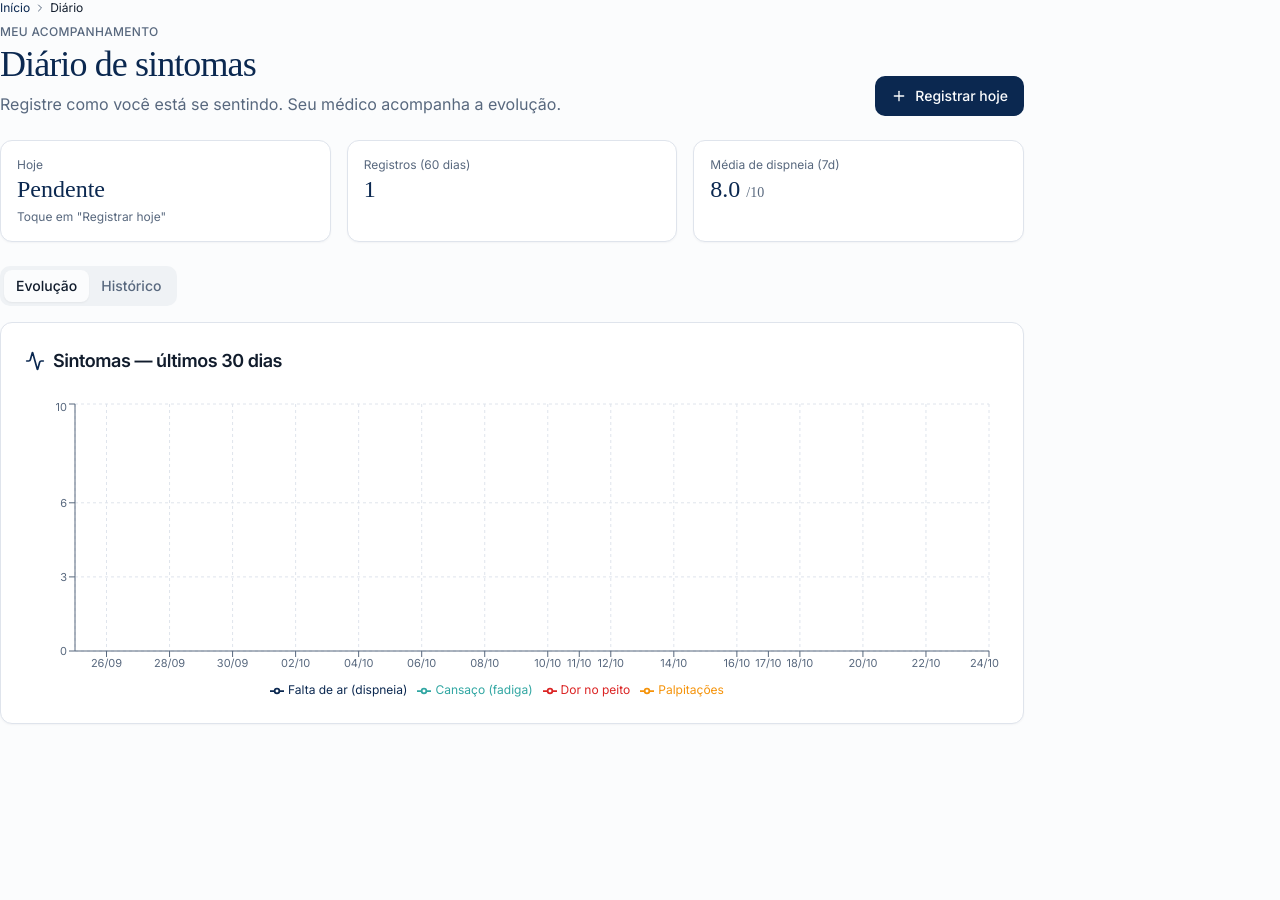
PacienteDiario › o upsert limpa o deleted_at, para não reviver um registro invisível
The image size is (1280, 900).
Later steps or results of the test are not shown.
Expected: the text "Registros (60 dias)" is shown, left=364, top=157, right=470, bottom=172
Step 1. Click the button "Registrar hoje" → (950, 96), box left=875, top=76, right=1024, bottom=116
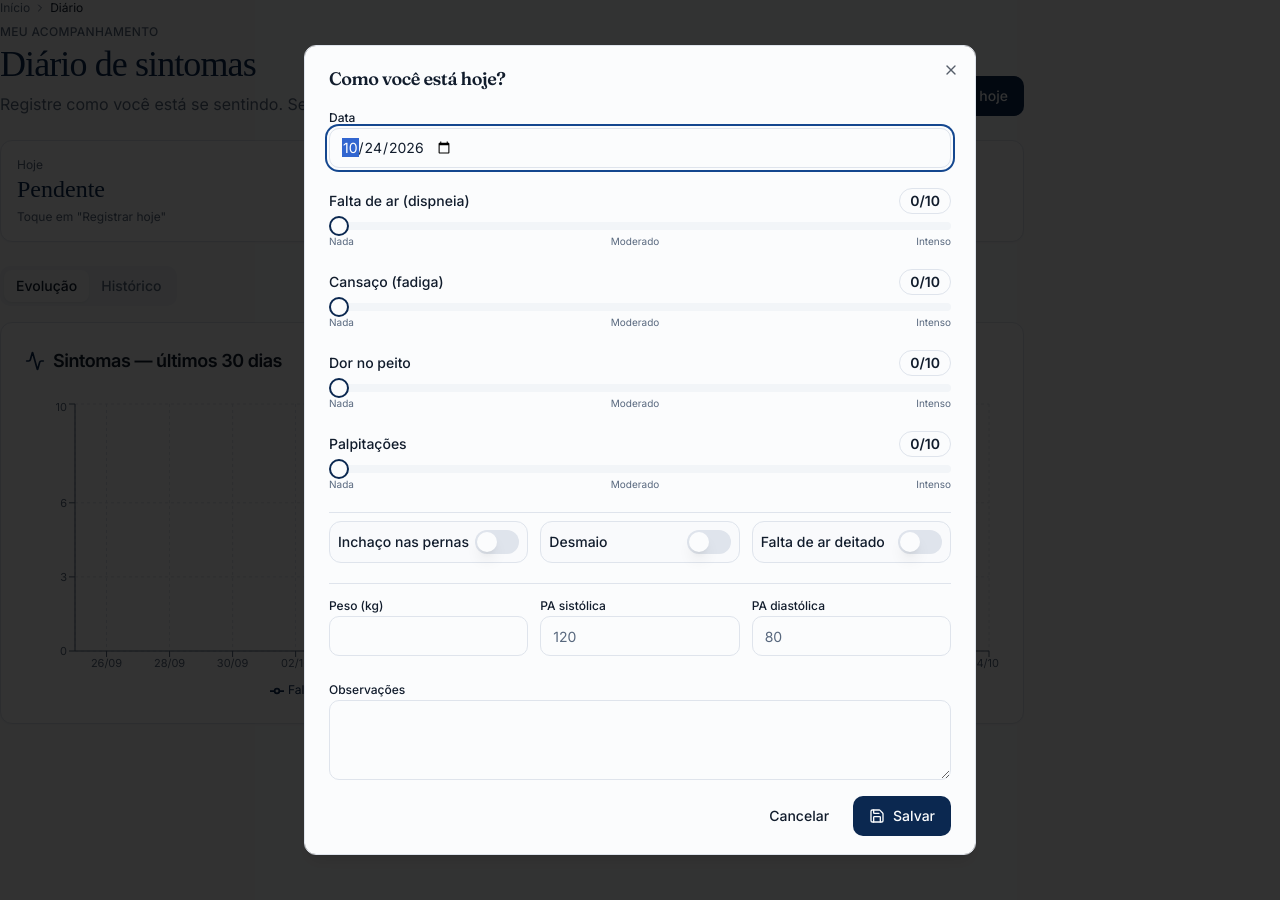
Now the dialog is shown, box left=304, top=45, right=976, bottom=855
